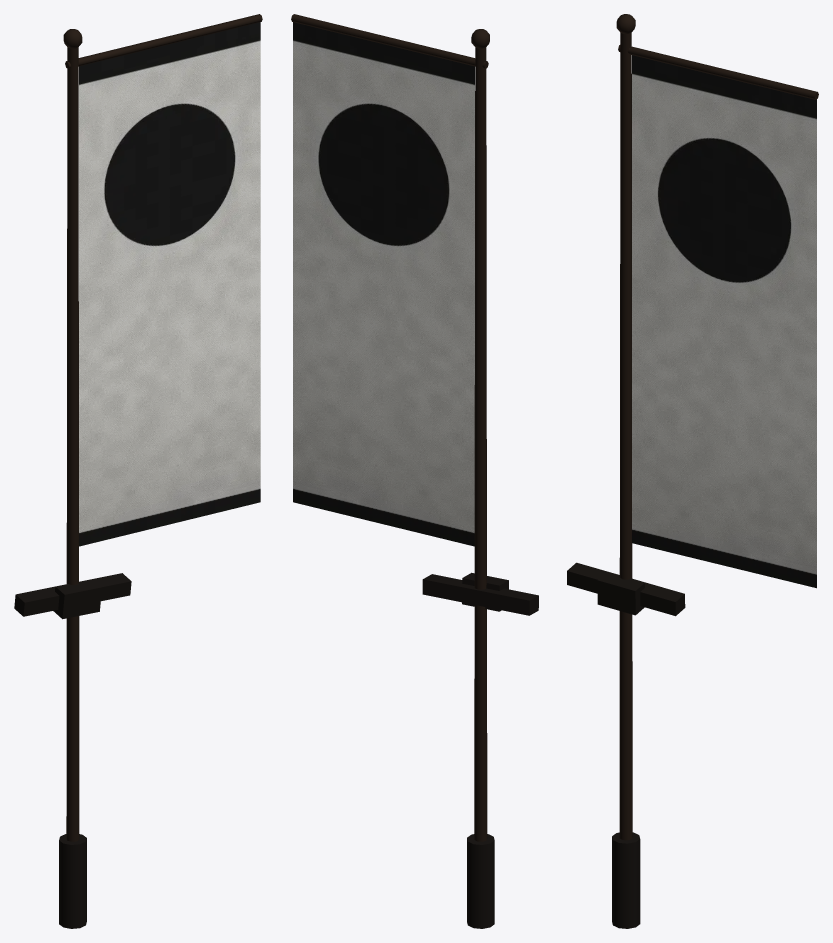
File: sashimono_kit_samurai.glb
3 views of the same model, side by side, from view 1: azimuth 30°, elevation 25°; view 2: azimuth 150°, elevation 25°; view 3: azimuth 330°, elevation 25° (orthographic).
Parts seen in each view (by area): view 1: _MeshInstance3D_279, _MeshInstance3D_276, _MeshInstance3D_282, _MeshInstance3D_285, _MeshInstance3D_277, _MeshInstance3D_284; view 2: _MeshInstance3D_279, _MeshInstance3D_276, _MeshInstance3D_282, _MeshInstance3D_285, _MeshInstance3D_277; view 3: _MeshInstance3D_279, _MeshInstance3D_276, _MeshInstance3D_282, _MeshInstance3D_285, _MeshInstance3D_277, _MeshInstance3D_284.
Part boxes in pixels (x1,y1,x2,y2): _MeshInstance3D_279: [79, 22, 260, 546]; _MeshInstance3D_276: [66, 47, 79, 841]; _MeshInstance3D_282: [59, 834, 86, 928]; _MeshInstance3D_285: [14, 573, 131, 616]; _MeshInstance3D_277: [65, 14, 262, 68]; _MeshInstance3D_284: [53, 579, 101, 619]; _MeshInstance3D_279: [293, 22, 474, 546]; _MeshInstance3D_276: [474, 47, 487, 841]; _MeshInstance3D_282: [467, 834, 494, 928]; _MeshInstance3D_285: [422, 574, 538, 615]; _MeshInstance3D_277: [291, 14, 488, 68]; _MeshInstance3D_279: [632, 55, 816, 588]; _MeshInstance3D_276: [619, 32, 632, 840]; _MeshInstance3D_282: [612, 832, 640, 928]; _MeshInstance3D_285: [567, 562, 685, 616]; _MeshInstance3D_277: [618, 45, 818, 99]; _MeshInstance3D_284: [597, 572, 644, 615].
Size of the model in its own units: 0.4515 by 1.6 by 0.0553.
Materials: 3 (1 with a texture image).
